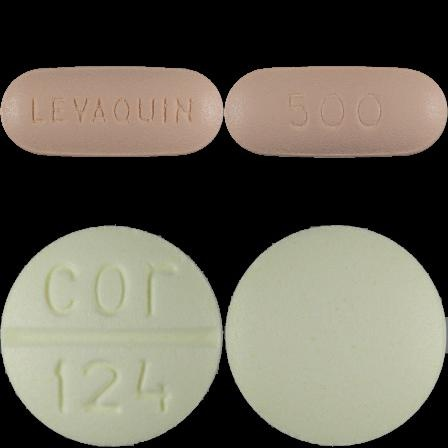21695-464: (0, 0, 224, 224)
